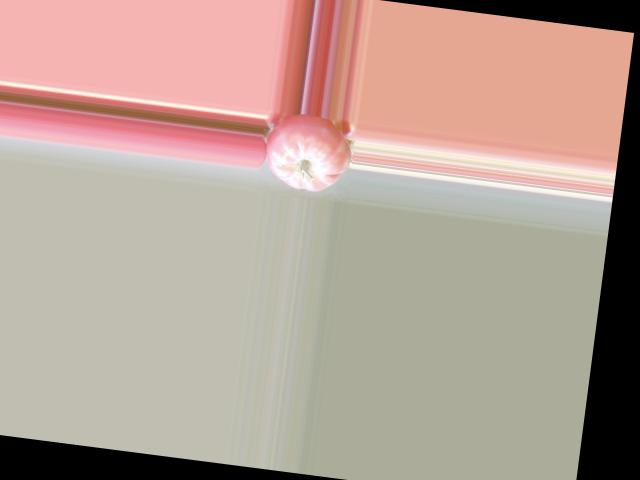tomato: (261, 109, 356, 195)
